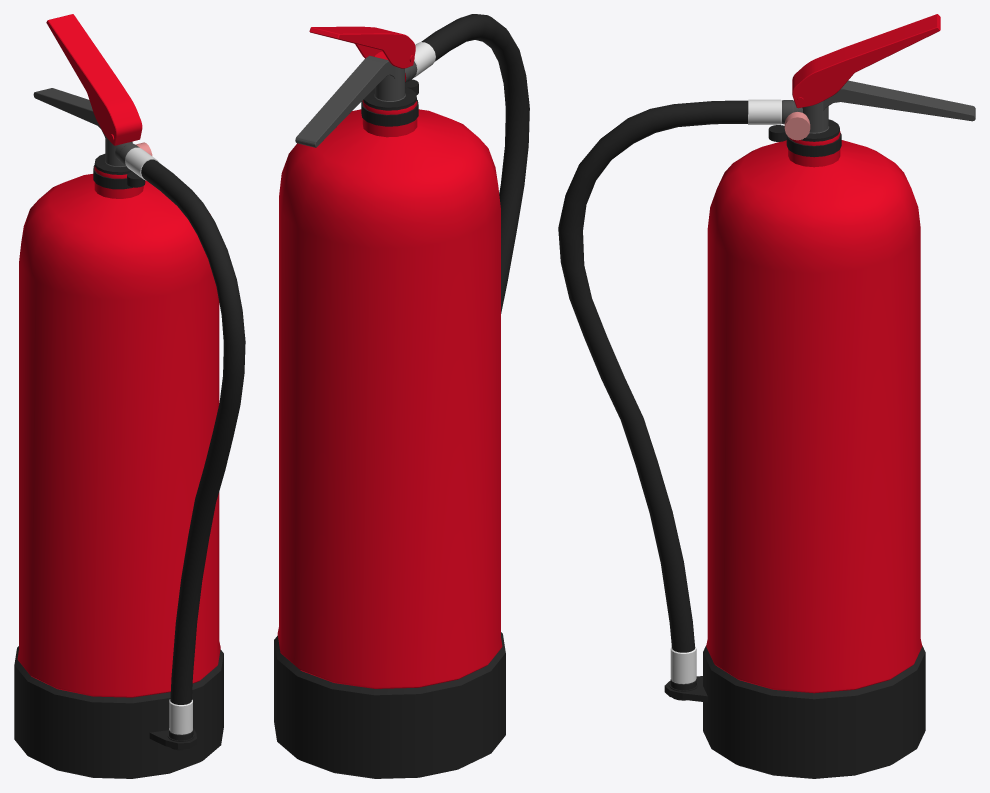
Rendered from Extinguisher.fbx.
3 views of the same model, side by side, from view 1: azimuth 30°, elevation 25°; view 2: azimuth 150°, elevation 25°; view 3: azimuth 270°, elevation 25° (orthographic). The views are drawn at different scales.
Visible parts, largest first — view 1: Cylinder.004; view 2: Cylinder.004; view 3: Cylinder.004.
Boxes of the visible parts, x1,y1,x2,y2 form: Cylinder.004: (14, 14, 245, 778); Cylinder.004: (274, 14, 529, 778); Cylinder.004: (558, 14, 975, 778).
Size of the model in its own units: 49.54 by 175 by 92.89.
